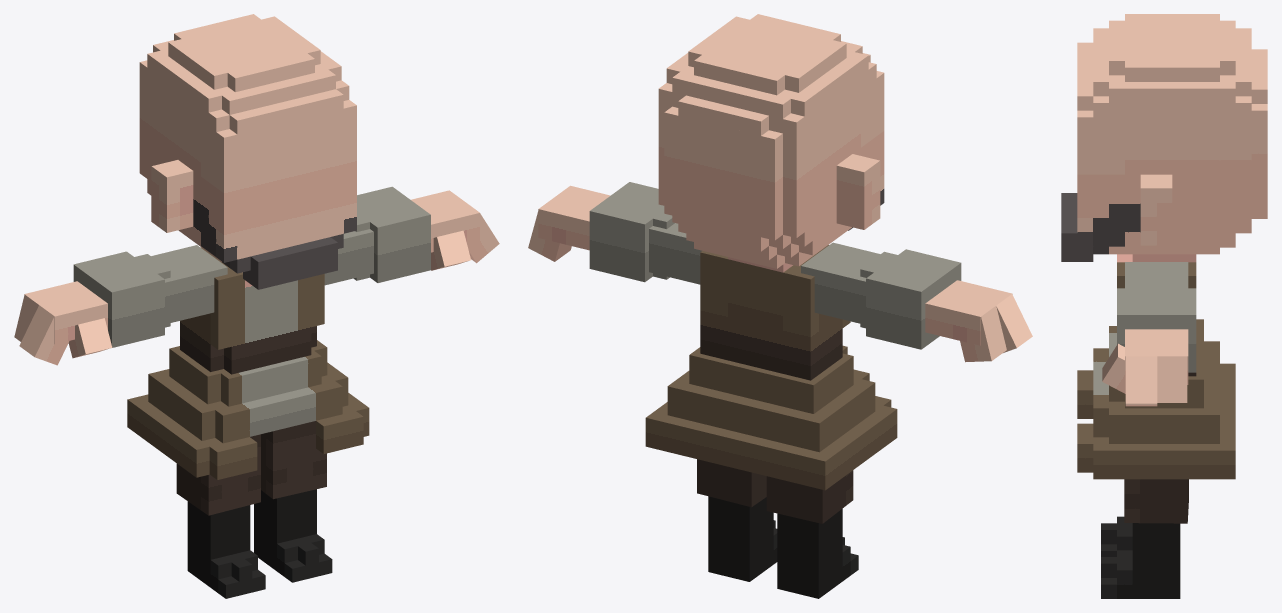
The model's file is Farmer_02.gltf.
3 views of the same model, side by side, from view 1: azimuth 30°, elevation 25°; view 2: azimuth 150°, elevation 25°; view 3: azimuth 270°, elevation 25° (orthographic). The views are drawn at different scales.
Parts seen in each view (by area): view 1: Model (×13); view 2: Model (×13); view 3: Model (×9).
Part boxes in pixels (left/top/right/bottom): Model (×13): left=14, top=14, right=499, bottom=598; Model (×13): left=528, top=14, right=1032, bottom=598; Model (×9): left=1061, top=14, right=1267, bottom=598.
Bounding box in the file's own units: 2.19 × 2.31 × 0.8125.
Materials: 8 (8 with a texture image).
